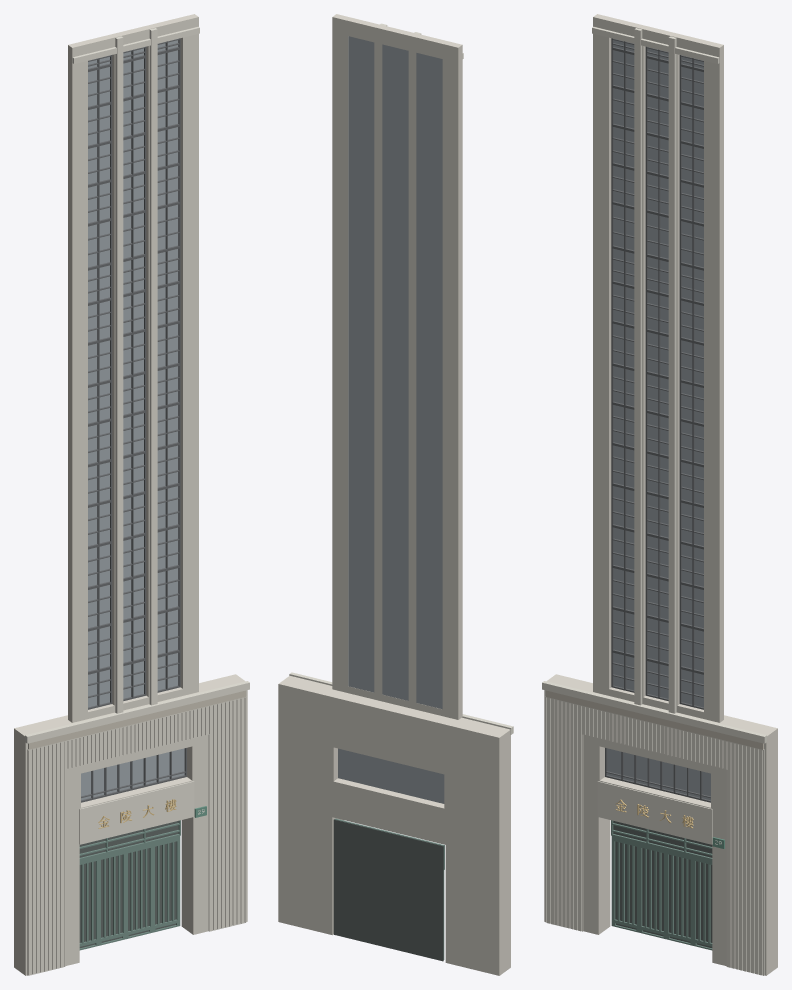
Rendered from huangpu-york-building-sichuan-stair-entrance-lod.glb.
3 renders of one model, left to right at view 1: azimuth 30°, elevation 25°; view 2: azimuth 150°, elevation 25°; view 3: azimuth 330°, elevation 25°, orthographic.
Parts seen in each view (by area): view 1: 约克大楼四川南路题名入口与贯层楼梯窗; view 2: 约克大楼四川南路题名入口与贯层楼梯窗; view 3: 约克大楼四川南路题名入口与贯层楼梯窗.
Boxes of the visible parts, x1,y1,x2,y2 form: 约克大楼四川南路题名入口与贯层楼梯窗: (14, 14, 249, 975); 约克大楼四川南路题名入口与贯层楼梯窗: (278, 14, 513, 975); 约克大楼四川南路题名入口与贯层楼梯窗: (542, 14, 777, 975).
Size of the model in its own units: 6.12 by 24.05 by 0.678.
